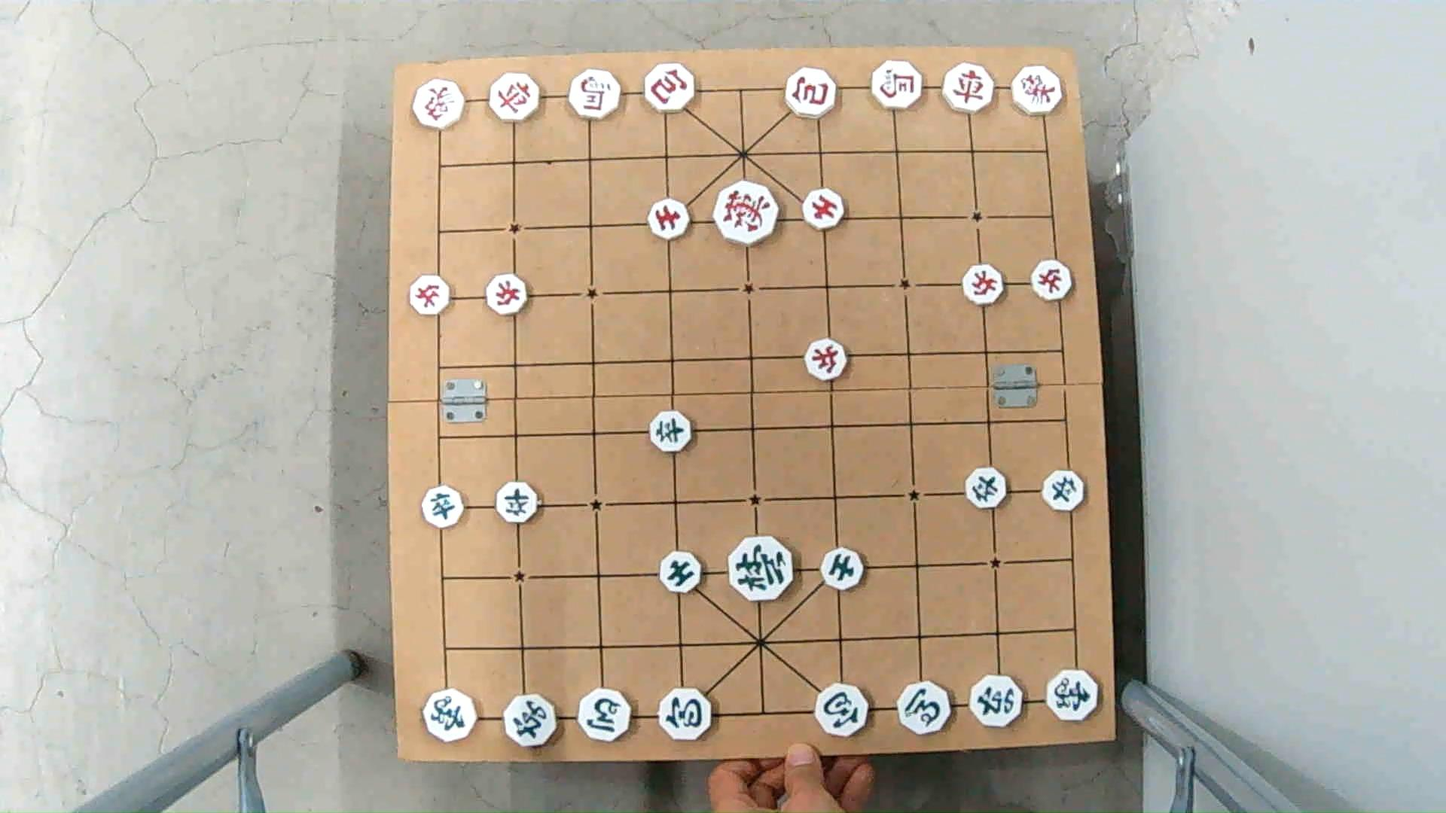cha_green: (966, 674, 1027, 723), (501, 696, 559, 746)
cha_red: (487, 75, 545, 120), (938, 67, 997, 111)
jol_green: (645, 413, 695, 449), (961, 468, 1009, 505), (1038, 473, 1085, 510), (495, 485, 543, 521), (418, 489, 465, 525)
jol_red: (801, 339, 850, 379), (483, 278, 531, 315), (405, 279, 453, 315), (1028, 262, 1074, 299), (959, 267, 1006, 303)
ma_green: (577, 691, 636, 741), (894, 683, 953, 730)
ma_red: (571, 74, 623, 119), (871, 65, 922, 110)
po_green: (657, 691, 717, 740), (814, 682, 866, 735)
po_red: (782, 72, 842, 117), (643, 69, 700, 112)
sa_green: (818, 546, 865, 589), (654, 552, 704, 589)
sa_red: (800, 187, 847, 229), (647, 197, 694, 238)
sang_green: (1043, 670, 1103, 719), (423, 693, 480, 741)
sang_red: (413, 82, 471, 126), (1011, 69, 1067, 114)
wang_green: (725, 534, 795, 598)
wang_red: (716, 183, 786, 240)
